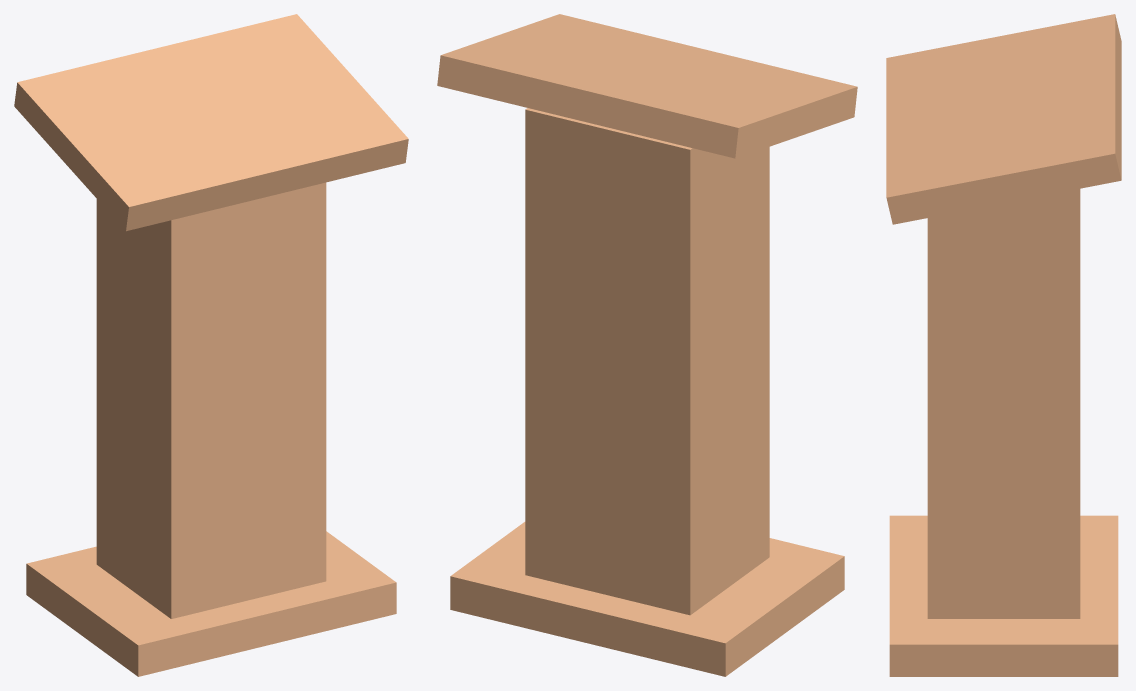
3 views of the same model, side by side, from view 1: azimuth 30°, elevation 25°; view 2: azimuth 150°, elevation 25°; view 3: azimuth 270°, elevation 25° (orthographic). The views are drawn at different scales.
Parts seen in each view (by area): view 1: Body, Reading top, Foot; view 2: Body, Reading top, Foot; view 3: Body, Reading top, Foot.
Boxes of the visible parts, <box> form: Body: <box>96,182,326,618</box>; Reading top: <box>14,14,408,231</box>; Foot: <box>26,531,396,676</box>; Body: <box>525,108,769,615</box>; Reading top: <box>437,14,857,158</box>; Foot: <box>450,522,844,676</box>; Body: <box>927,189,1080,618</box>; Reading top: <box>886,14,1121,224</box>; Foot: <box>889,515,1118,676</box>.
Bounding box in the file's own units: 0.65 × 1.15 × 0.4624.
1 material, 1 textured.
